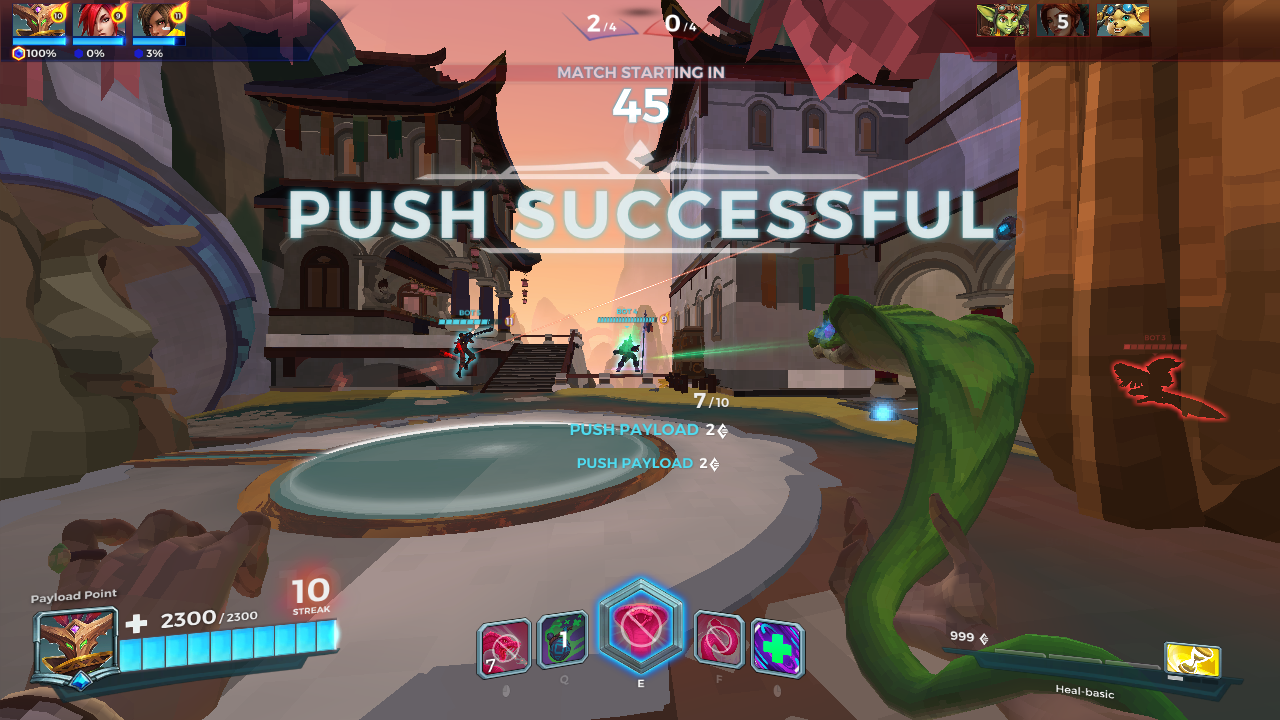model: (1095, 355, 1222, 427)
